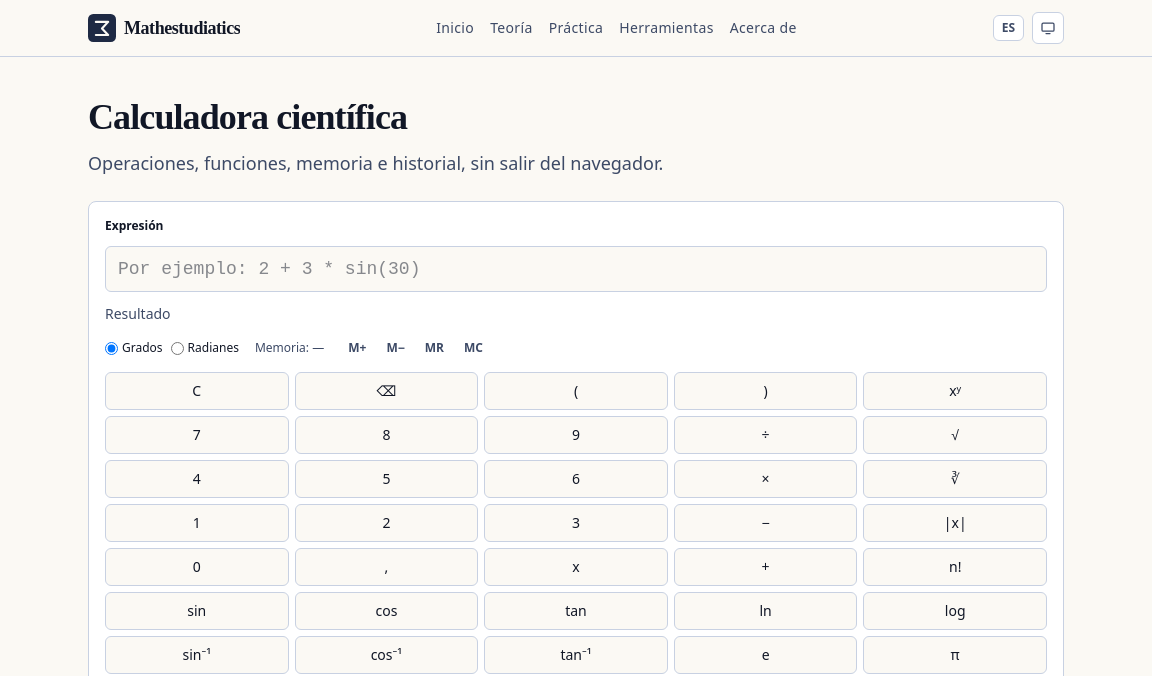
Test: calculator page › keeps a history of calculations
This screenshot has width=1152, height=676.
expect the heading "Calculadora científica" is shown: met, box [88, 97, 407, 137]
Type "1/3" into the field labelled "Expresión".
click(576, 269); type("1/3")  # box [105, 246, 1047, 292]
(page scrolled)
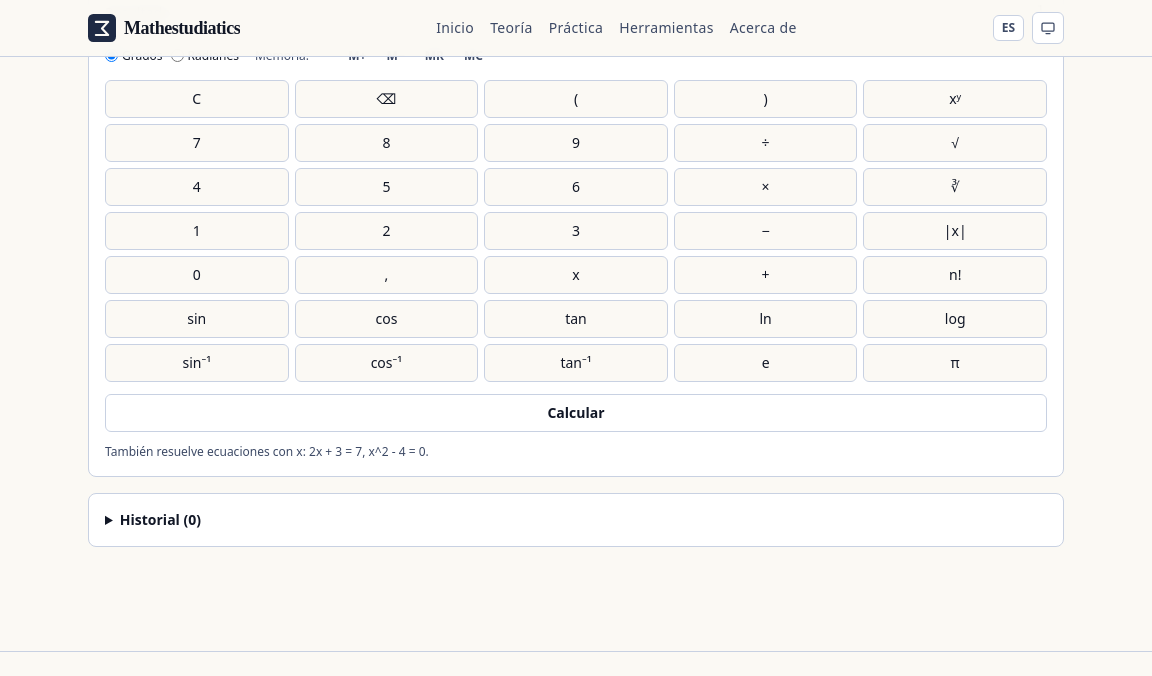
Click the button "Calcular".
click(576, 412)  # box [105, 394, 1047, 432]
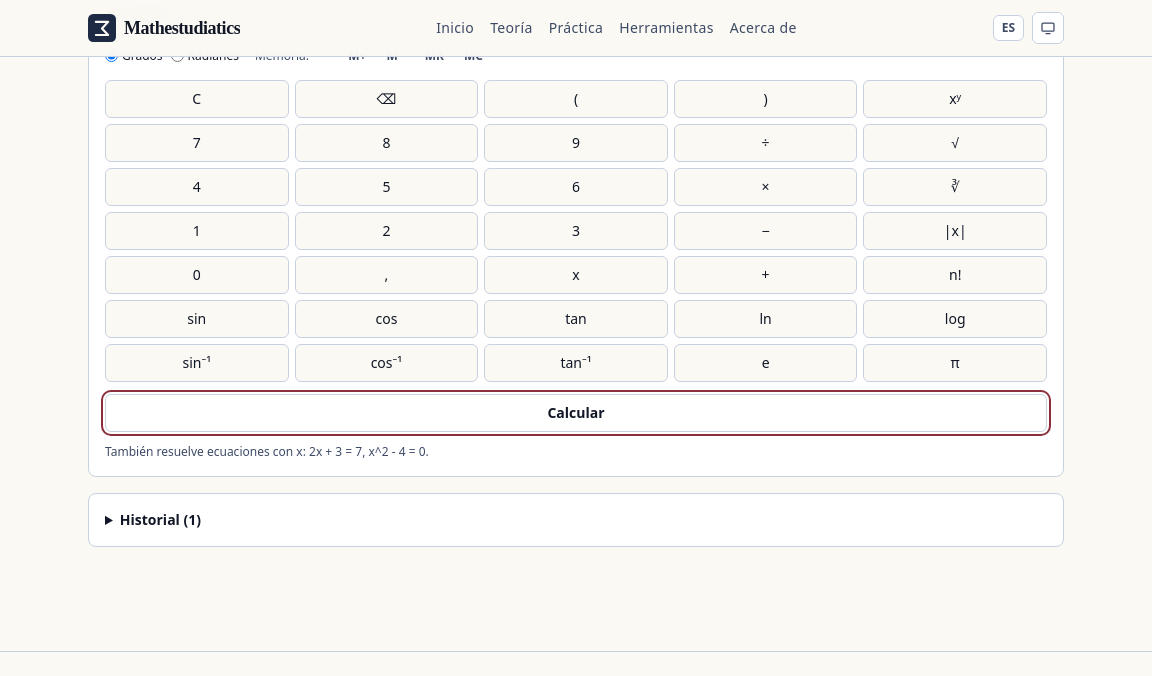
Click the heading "Historial (1)".
click(160, 519)  # box [120, 510, 201, 528]
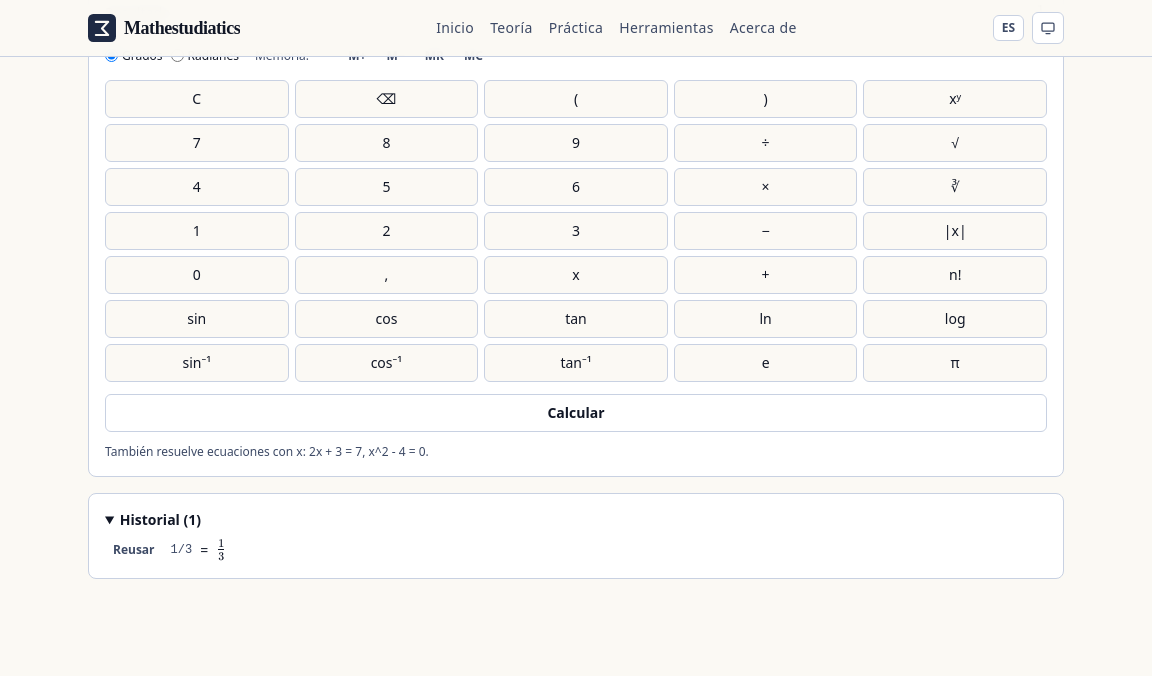
expect the text "1/3" is shown: met, box [171, 542, 192, 558]
